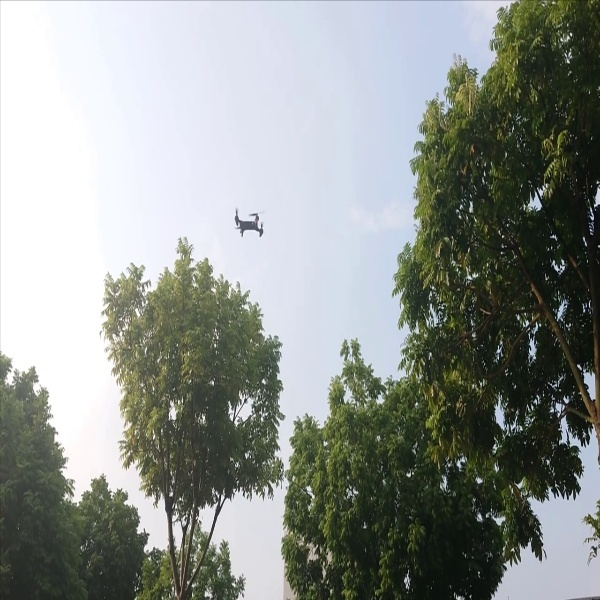drone: (225, 196, 269, 244)
